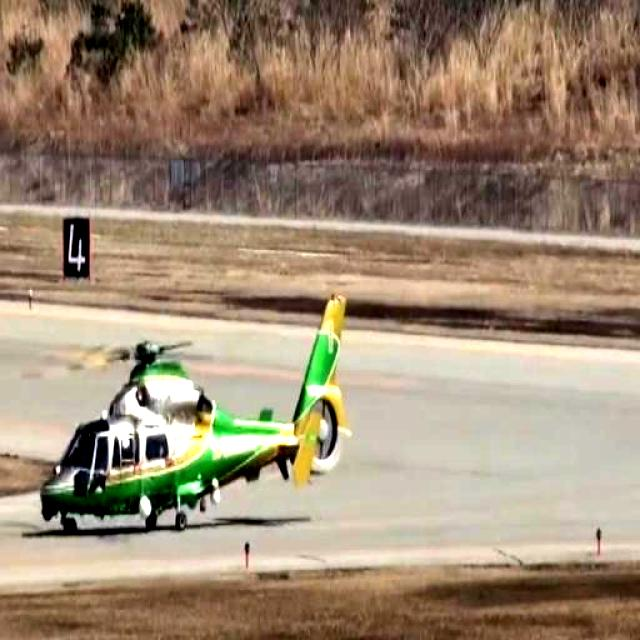drone: (40, 294, 346, 549)
